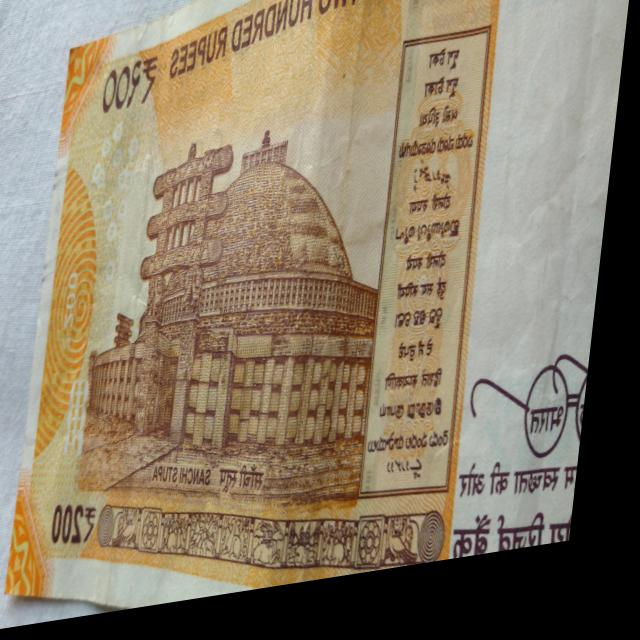Currency: (8, 0, 636, 632)
